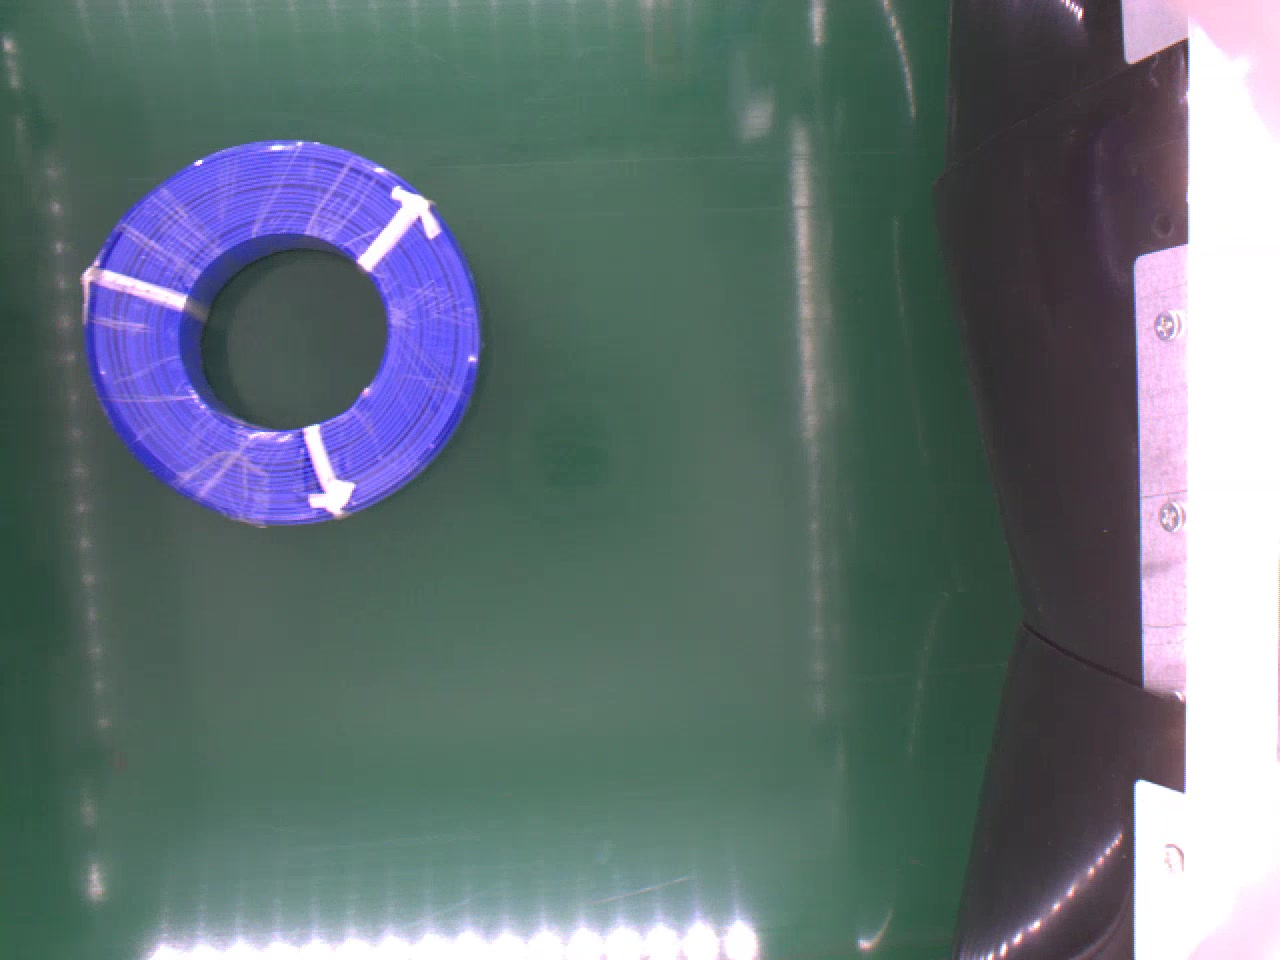blue: (83, 138, 485, 526)
